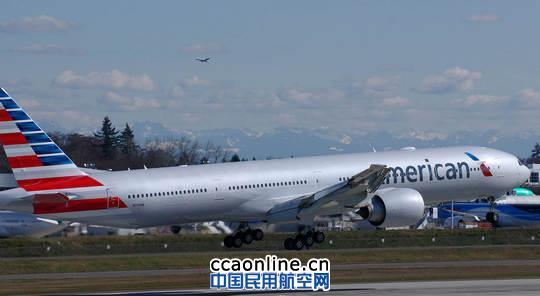airplane: (3, 118, 531, 239)
